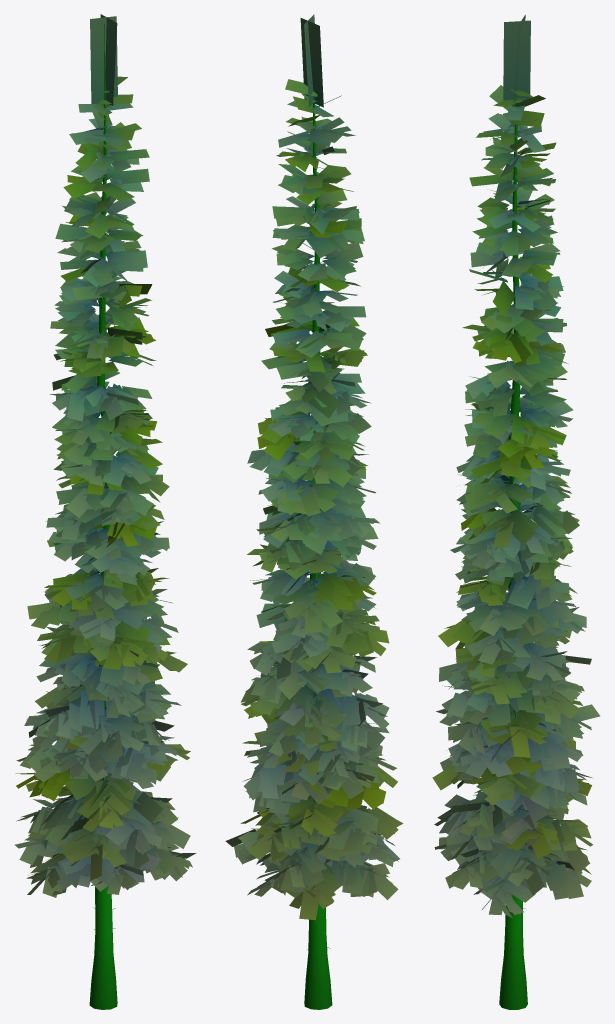
Rendered from fir_a.glb.
The picture shows the model from 3 angles, left to right: view 1: azimuth 30°, elevation 25°; view 2: azimuth 150°, elevation 25°; view 3: azimuth 270°, elevation 25°; orthographic projection.
Visible parts, largest first — view 1: LOD0; view 2: LOD0; view 3: LOD0.
Boxes of the visible parts, <box> form: LOD0: <box>14,14,196,1009</box>; LOD0: <box>225,14,403,1009</box>; LOD0: <box>432,14,600,1009</box>.
Size of what is drawn, in the model's own units: 4.1 by 22.49 by 3.48.
